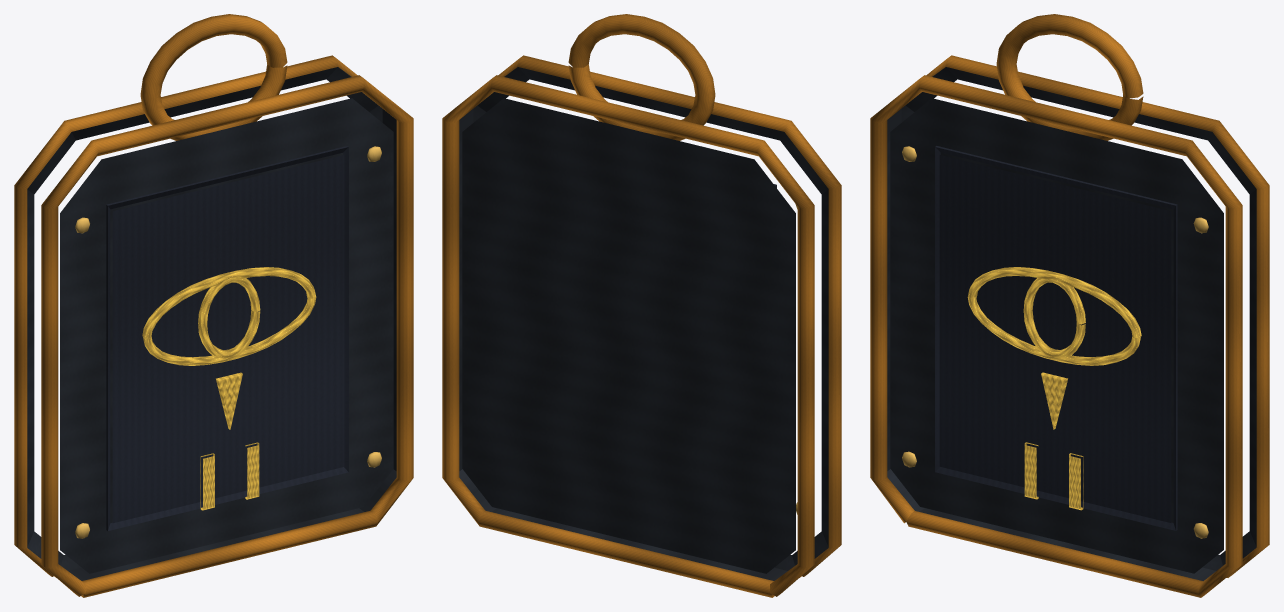
File: slate_stasis.glb
3 renders of one model, left to right at view 1: azimuth 30°, elevation 25°; view 2: azimuth 150°, elevation 25°; view 3: azimuth 330°, elevation 25°, orthographic.
Parts seen in each view (by area): view 1: Inset dark display, Carved basalt tablet, Bronze tablet rim (×2), Carrying handle, Sheikah eye lid (×2), Eye iris, Stasis pause bar (×2), Sheikah tear; view 2: Carved basalt tablet, Bronze tablet rim (×2), Carrying handle; view 3: Inset dark display, Carved basalt tablet, Bronze tablet rim (×2), Carrying handle, Sheikah eye lid (×2), Eye iris, Stasis pause bar (×2), Sheikah tear.
Boxes of the visible parts, bbox=[...] form: Inset dark display: bbox=[106, 146, 348, 530]; Carved basalt tablet: bbox=[27, 67, 396, 580]; Bronze tablet rim (×2): bbox=[14, 55, 413, 597]; Carrying handle: bbox=[140, 14, 287, 140]; Sheikah eye lid (×2): bbox=[142, 267, 316, 365]; Eye iris: bbox=[198, 277, 260, 358]; Stasis pause bar (×2): bbox=[200, 442, 259, 510]; Sheikah tear: bbox=[216, 372, 242, 429]; Carved basalt tablet: bbox=[459, 67, 828, 580]; Bronze tablet rim (×2): bbox=[442, 55, 841, 597]; Carrying handle: bbox=[568, 14, 715, 140]; Inset dark display: bbox=[935, 146, 1177, 530]; Carved basalt tablet: bbox=[887, 67, 1256, 581]; Bronze tablet rim (×2): bbox=[870, 55, 1269, 597]; Carrying handle: bbox=[996, 14, 1143, 140]; Sheikah eye lid (×2): bbox=[967, 267, 1141, 365]; Eye iris: bbox=[1023, 278, 1085, 358]; Stasis pause bar (×2): bbox=[1024, 442, 1083, 510]; Sheikah tear: bbox=[1041, 372, 1067, 429].
Bounding box in the file's own units: 37.69 × 52.11 × 6.34.
5 materials, 5 textured.
